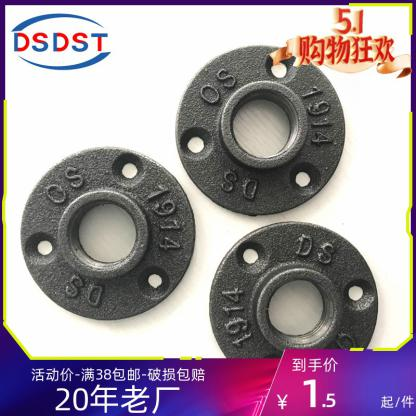FOD: (173, 42, 352, 219), (20, 148, 195, 323), (208, 217, 382, 358)
